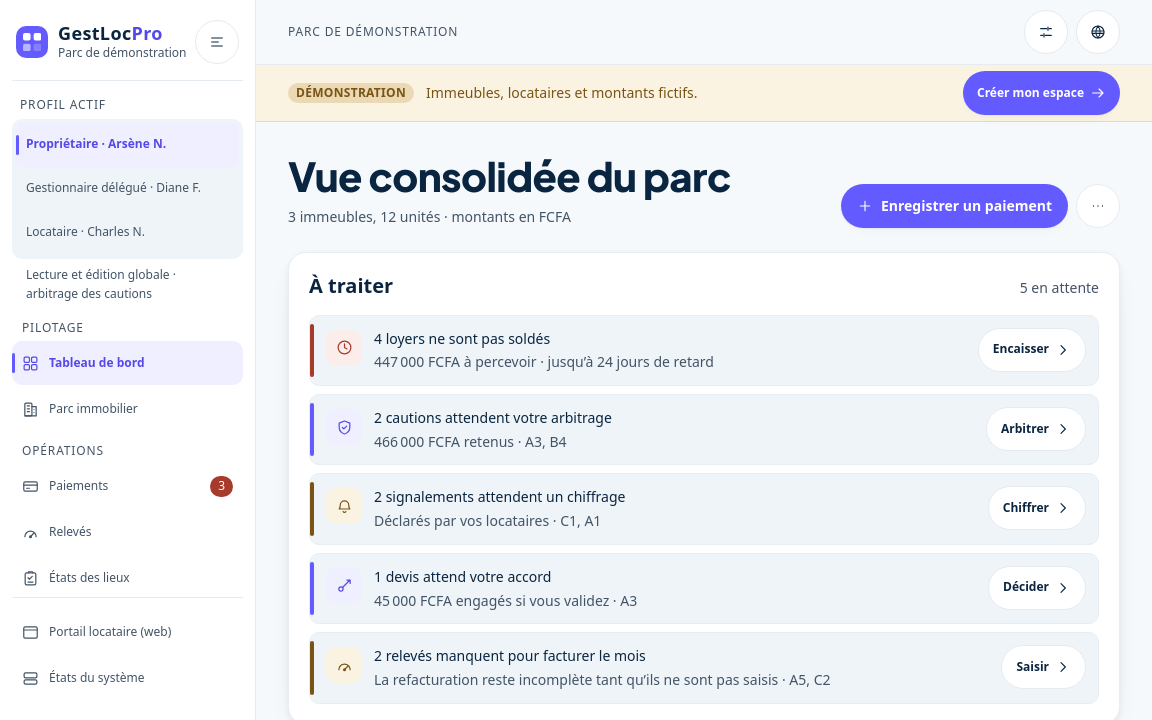
Test: en démonstration, la devise se choisit › offre le sélecteur au bailleur
The width and height of the screenshot is (1152, 720).
Click the button named "Réglages : langue, devise et thème" at (1046, 32), box [1024, 10, 1068, 54]
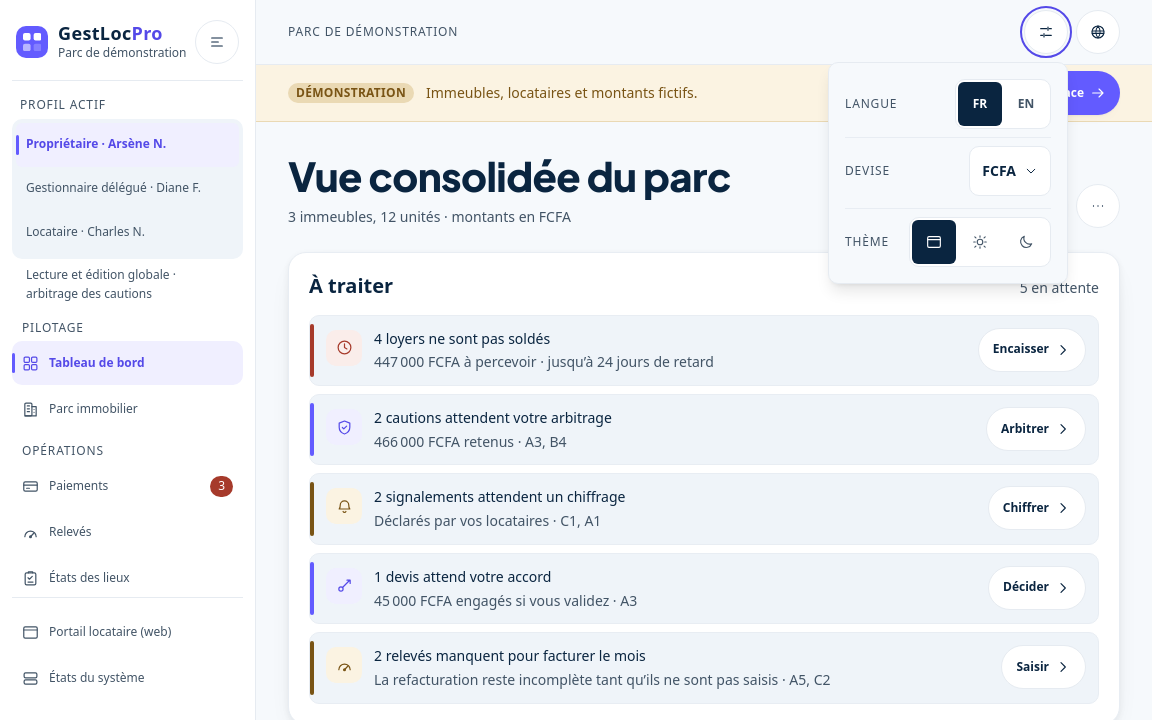
Check: the button "FCFA" is shown, box [969, 146, 1051, 196]
